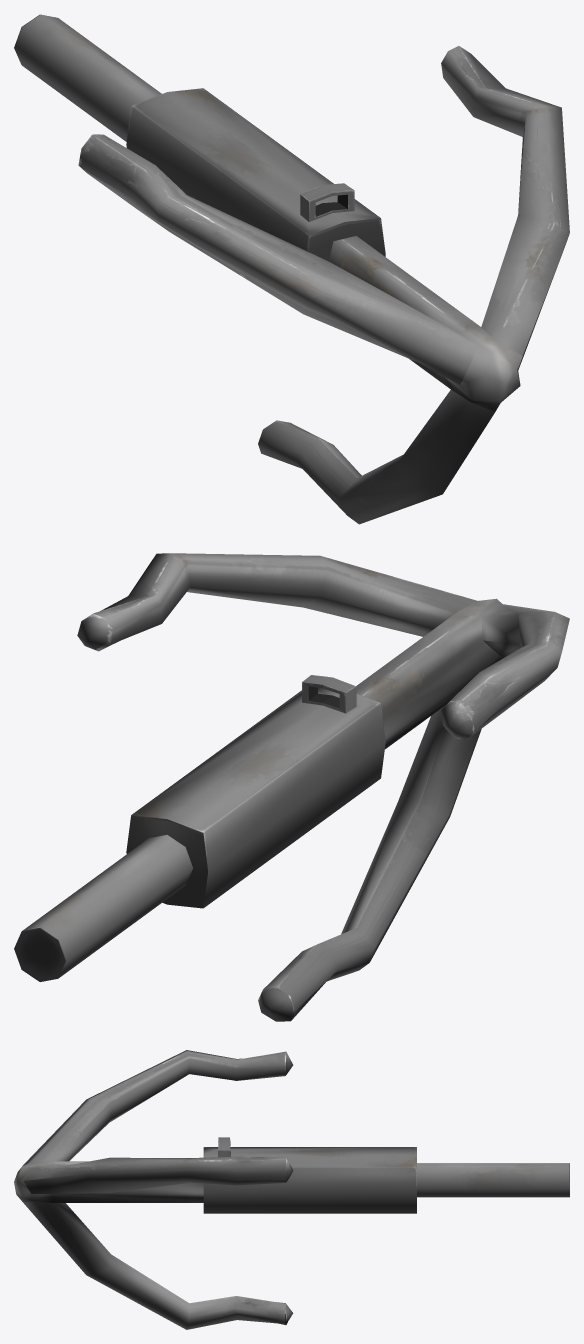
File: WpMD_GrapplingHead_01.fbx
The picture shows the model from 3 angles, top to bottom: view 1: azimuth 30°, elevation 25°; view 2: azimuth 150°, elevation 25°; view 3: azimuth 270°, elevation 25°; orthographic projection. The views are drawn at different scales.
Visible parts, largest first — view 1: pCube12; view 2: pCube12; view 3: pCube12.
Boxes of the visible parts, <box> form: pCube12: <box>14,14,569,524</box>; pCube12: <box>14,553,569,1021</box>; pCube12: <box>14,1050,569,1329</box>.
Bounding box in the file's own units: 7.91 × 6.97 × 15.64.
Materials: 1 (1 with a texture image).
